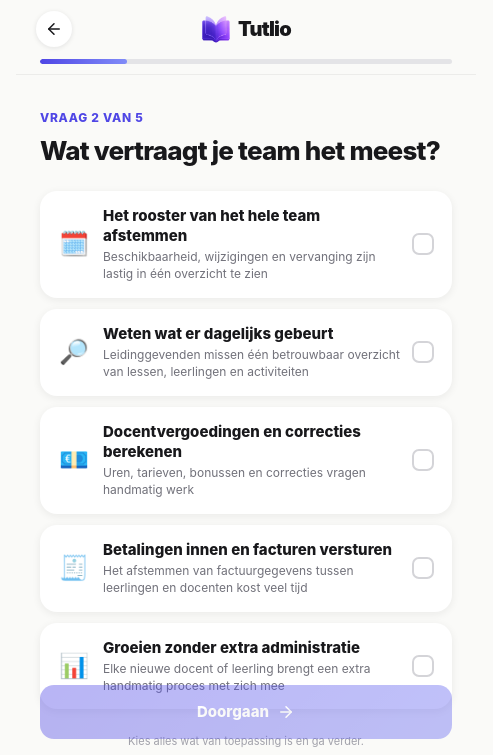
Scenario: Dutch quiz customer journey › enables the business multi-select continuation and presents the Dutch insight
Expected: the button with test id "floating-proceed" is disabled, [40,685,452,739]
Step 1. Click the checkbox labelled "Het rooster van het hele team afstemmen" → [212, 215], box [40,191,452,298]
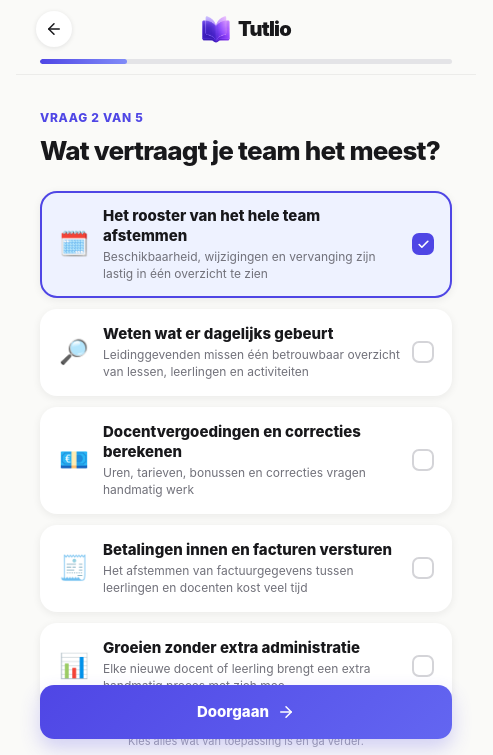
Step 2. Click the checkbox labelled "Docentvergoedingen en correcties berekenen" → [232, 431], box [40,407,452,514]
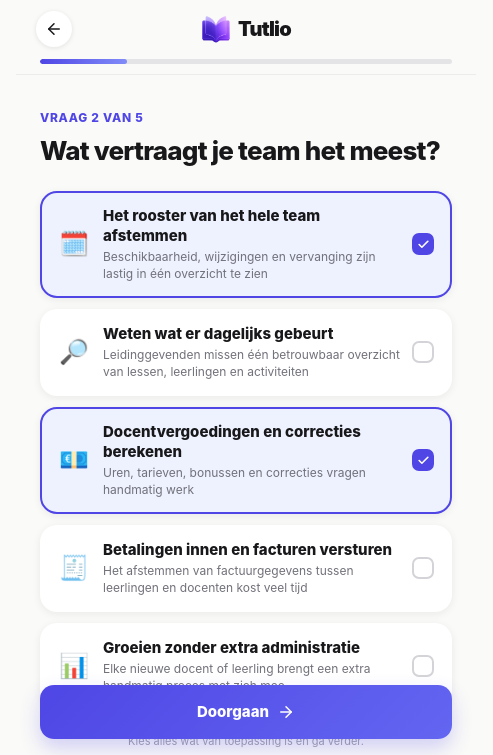
Expected: the button with test id "floating-proceed" is enabled
Step 3. Click the button with test id "floating-proceed" → [246, 712], box [40,685,452,739]
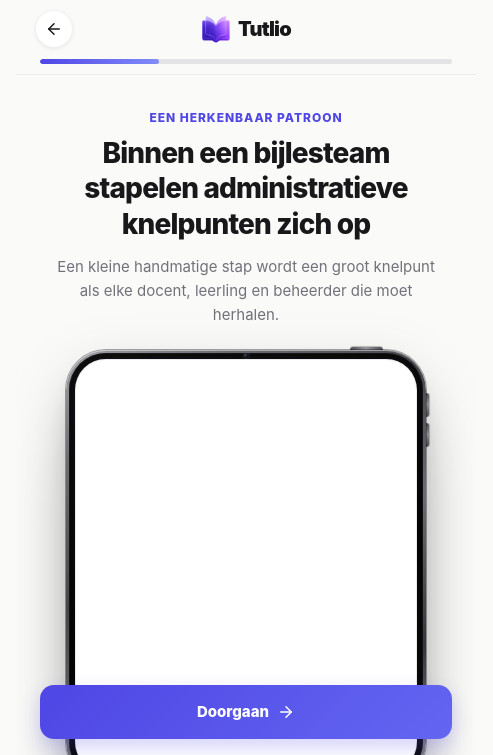
Expected: the heading "Binnen een bijlesteam stapelen administratieve knelpunten zich op" is shown, [84,136,408,240]
